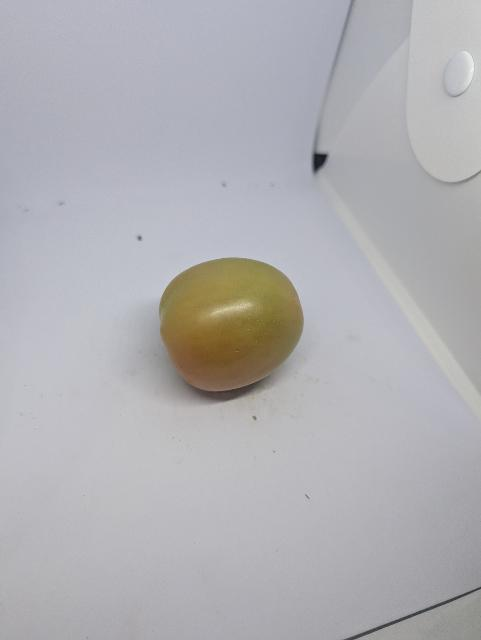breaker: (155, 252, 307, 399)
